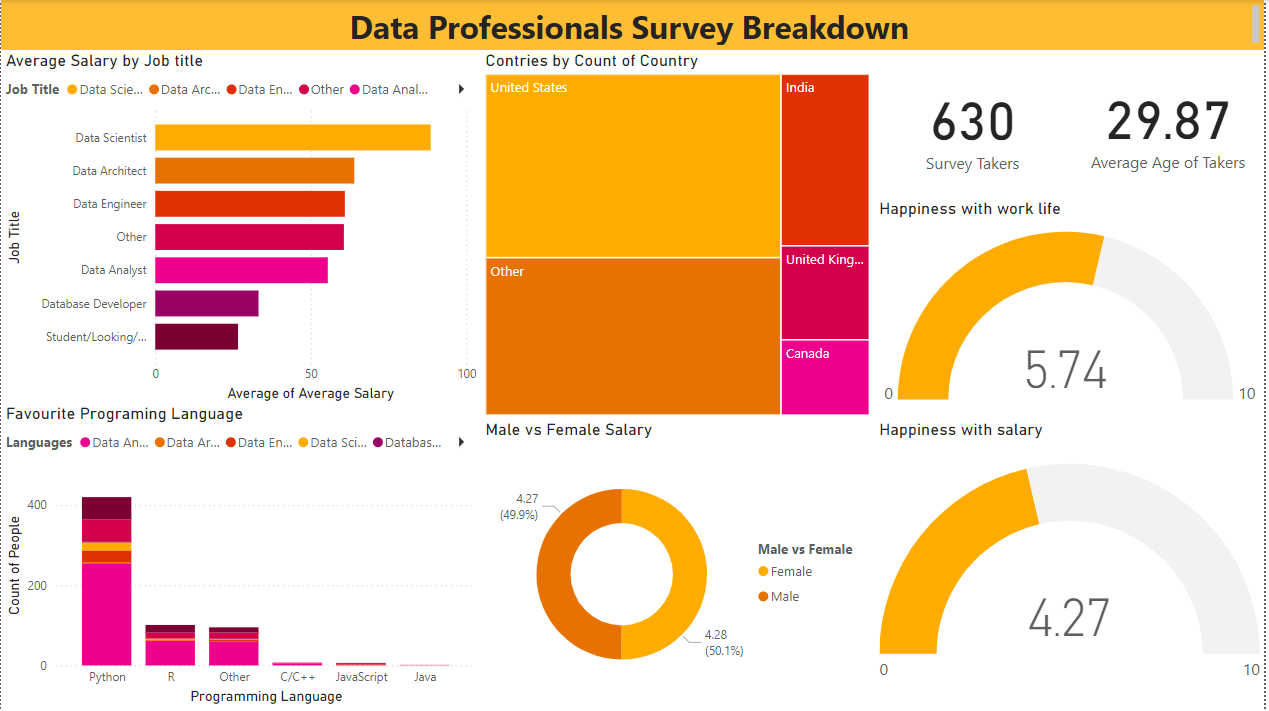

What the dashboard file says about the page in this screenshot:
{"tool":"powerbi","page":{"name":"Page 1","canvas":[1280,720],"ordinal":0},"visuals":[{"type":"textbox","box":[0,0,1280.1,50.7],"z":0},{"type":"card","fields":{"Values":["CountNonNull(Data Professional Survey.Unique ID)"]},"box":[884.8,51.8,198.7,150.3],"z":1},{"type":"card","fields":{"Values":["Avg(Data Professional Survey.Q10 - Current Age)"]},"box":[1083.5,51.8,197,148.6],"z":2},{"type":"barChart","title":"Average Salary by Job title","fields":{"Category":["Data Professional Survey.Q1 - Which Title Best Fits your Current Role?.1"],"Y":["Avg(Data Professional Survey.Average Salary)"],"Series":["Data Professional Survey.Q1 - Which Title Best Fits your Current Role?.1"]},"box":[0,50.7,486.1,360.2],"z":3},{"type":"columnChart","title":"Favourite Programing Language","fields":{"Category":["Data Professional Survey.Q5 - Favorite Programming Language.1"],"Y":["CountNonNull(Data Professional Survey.Unique ID)"],"Series":["Data Professional Survey.Q1 - Which Title Best Fits your Current Role?.1"]},"box":[0,409.2,486.1,309.5],"z":4},{"type":"treemap","fields":{"Group":["Data Professional Survey.Q11 - Which Country do you live in?.1"],"Values":["CountNonNull(Data Professional Survey.Q11 - Which Country do you live in?.1)"]},"box":[486.1,50.7,398.7,374.2],"z":5},{"type":"gauge","title":"Happiness with work life","fields":{"MinValue":["Min(Data Professional Survey.Q6 - How Happy are you in your Current Position with the following? (Work/Life Balance))"],"Y":["Avg(Data Professional Survey.Q6 - How Happy are you in your Current Position with the following? (Work/Life Balance))"],"MaxValue":["Max(Data Professional Survey.Q6 - How Happy are you in your Current Position with the following? (Work/Life Balance))1"]},"box":[884.8,202,395.7,222],"z":6},{"type":"gauge","title":"Happiness with salary","fields":{"Y":["Avg(Data Professional Survey.Q6 - How Happy are you in your Current Position with the following? (Salary))"],"MinValue":["Min(Data Professional Survey.Q6 - How Happy are you in your Current Position with the following? (Salary))"],"MaxValue":["Max(Data Professional Survey.Q6 - How Happy are you in your Current Position with the following? (Salary))"]},"box":[884.8,424.9,395.2,293.8],"z":7},{"type":"donutChart","title":"Male vs Female Salary","fields":{"Category":["Data Professional Survey.Q9 - Male/Female?"],"Y":["Avg(Data Professional Survey.Q6 - How Happy are you in your Current Position with the following? (Salary))"]},"box":[486.1,424.9,398.7,293.8],"z":8}]}

Visuals, with their boxes in screenshot pixels (x1, y1, x2, y2), scaled from the page's 1280x720 canvas onto the 1269x711 screenshot:
textbox: locate(0, 0, 1268, 50)
card - CountNonNull(Data Professional Survey.Unique ID): locate(877, 51, 1074, 200)
card - Avg(Data Professional Survey.Q10 - Current Age): locate(1074, 51, 1268, 198)
"Average Salary by Job title" barChart: locate(0, 50, 482, 406)
"Favourite Programing Language" columnChart: locate(0, 404, 482, 710)
treemap - Data Professional Survey.Q11 - Which Country do you live in?.1 x CountNonNull(Data Professional Survey.Q11 - Which Country do you live in?.1): locate(482, 50, 877, 420)
"Happiness with work life" gauge: locate(877, 199, 1268, 419)
"Happiness with salary" gauge: locate(877, 420, 1268, 710)
"Male vs Female Salary" donutChart: locate(482, 420, 877, 710)
